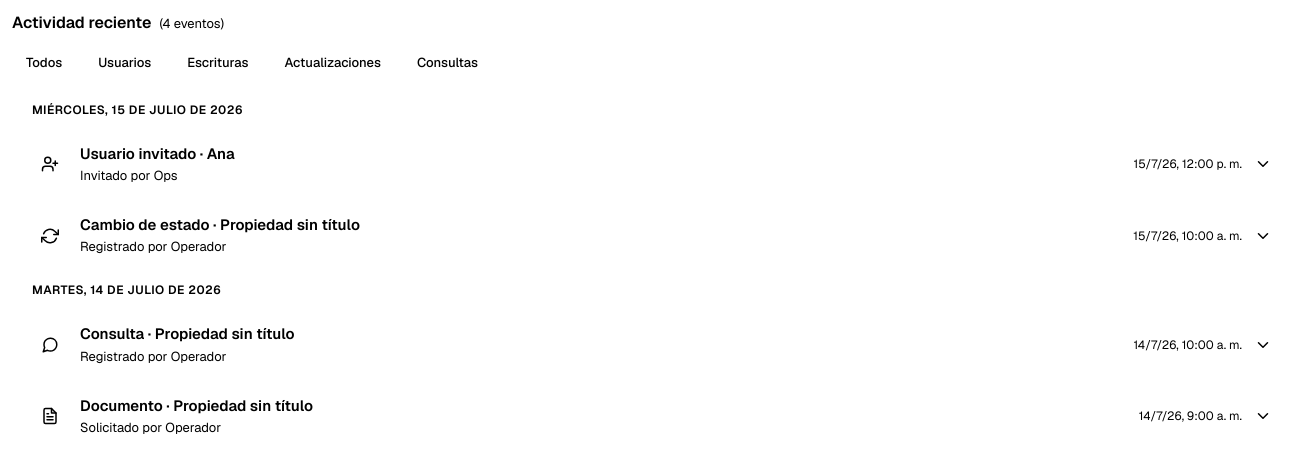
Test: TenantActivityFeed — category filter › "Todos" restores every item after another filter was active
Click the button with test id "tenant-activity-filter-user". click: (125, 63)
box: [84, 47, 165, 78]
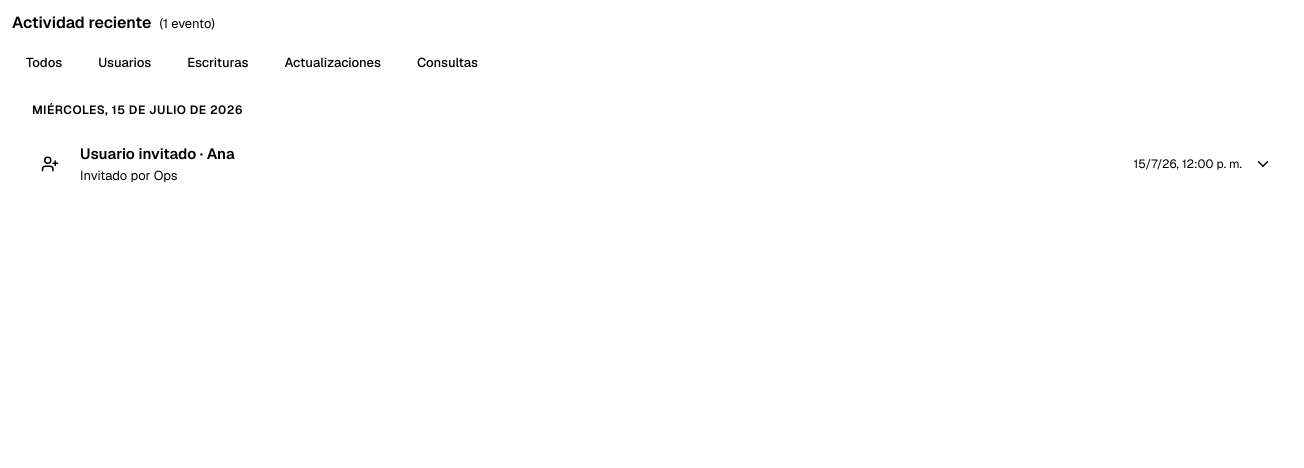
Result: the list item with test id "tenant-activity-item-deed-1" is gone
Click the button with test id "tenant-activity-filter-all". click: (44, 63)
box: [12, 47, 76, 78]
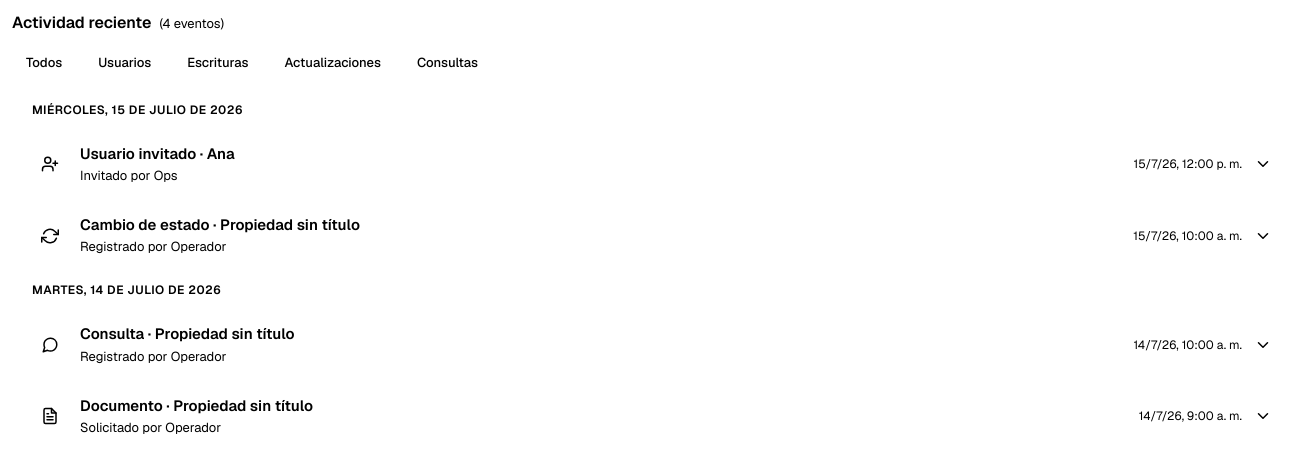
Expected: the list item with test id "tenant-activity-item-user-1" is shown, [12, 128, 1292, 200]
Result: the list item with test id "tenant-activity-item-deed-1" is shown at [12, 380, 1292, 452]
